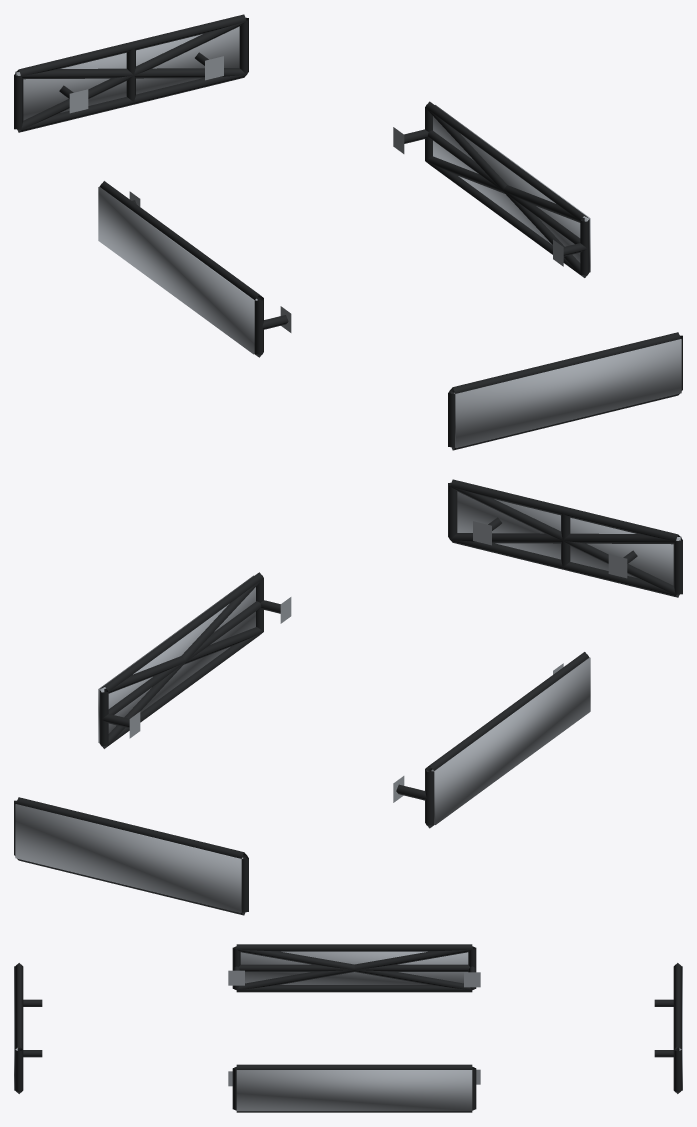
File: bancroft_cintila_protecao.glb
3 views of the same model, one above another, from view 1: azimuth 30°, elevation 25°; view 2: azimuth 150°, elevation 25°; view 3: azimuth 270°, elevation 25° (orthographic). The views are drawn at different scales.
Visible parts, largest first — view 1: Protection_front_Level3_Details, Protection_left_Level3_Details, Protection_rear_Level1_Details, Protection_rear_Level3_Details, Protection_right_Level1_Details, Protection_rear_Level2_Details, Protection_right_Level2_Details, Protection_right_Level3_Details, Protection_front_Level1_Details, Protection_left_Level1_Details; view 2: Protection_rear_Level3_Details, Protection_left_Level3_Details, Protection_front_Level1_Details, Protection_front_Level3_Details, Protection_right_Level1_Details, Protection_front_Level2_Details, Protection_right_Level2_Details, Protection_right_Level3_Details, Protection_rear_Level1_Details, Protection_left_Level1_Details; view 3: Protection_right_Level3_Details, Protection_left_Level2_Details, Protection_left_Level1_Details, Protection_left_Level3_Details, Protection_right_Level1_Details, Protection_rear_Level1_Details, Protection_front_Level1_Details.
Part boxes in pixels (x1=…): Protection_front_Level3_Details: x1=453, y1=339, x2=681, y2=448; Protection_left_Level3_Details: x1=98, y1=186, x2=257, y2=354; Protection_rear_Level1_Details: x1=14, y1=14, x2=248, y2=132; Protection_rear_Level3_Details: x1=15, y1=26, x2=239, y2=120; Protection_right_Level1_Details: x1=393, y1=101, x2=589, y2=277; Protection_rear_Level2_Details: x1=16, y1=21, x2=246, y2=131; Protection_right_Level2_Details: x1=425, y1=108, x2=588, y2=277; Protection_right_Level3_Details: x1=433, y1=105, x2=590, y2=272; Protection_front_Level1_Details: x1=448, y1=332, x2=682, y2=450; Protection_left_Level1_Details: x1=99, y1=181, x2=291, y2=357; Protection_rear_Level3_Details: x1=15, y1=804, x2=243, y2=913; Protection_left_Level3_Details: x1=431, y1=657, x2=590, y2=824; Protection_front_Level1_Details: x1=448, y1=479, x2=682, y2=597; Protection_front_Level3_Details: x1=457, y1=491, x2=681, y2=585; Protection_right_Level1_Details: x1=99, y1=572, x2=291, y2=748; Protection_front_Level2_Details: x1=450, y1=486, x2=680, y2=596; Protection_right_Level2_Details: x1=100, y1=579, x2=263, y2=748; Protection_right_Level3_Details: x1=98, y1=575, x2=255, y2=743; Protection_rear_Level1_Details: x1=14, y1=797, x2=248, y2=915; Protection_left_Level1_Details: x1=393, y1=652, x2=589, y2=828; Protection_right_Level3_Details: x1=236, y1=1070, x2=472, y2=1111; Protection_left_Level2_Details: x1=236, y1=948, x2=472, y2=990; Protection_left_Level1_Details: x1=228, y1=944, x2=480, y2=992; Protection_left_Level3_Details: x1=240, y1=951, x2=468, y2=984; Protection_right_Level1_Details: x1=228, y1=1064, x2=480, y2=1112; Protection_rear_Level1_Details: x1=654, y1=963, x2=681, y2=1093; Protection_front_Level1_Details: x1=15, y1=963, x2=42, y2=1093.
Size of the model in its own units: 1.97 by 0.354 by 4.46.
1 material, 1 textured.
